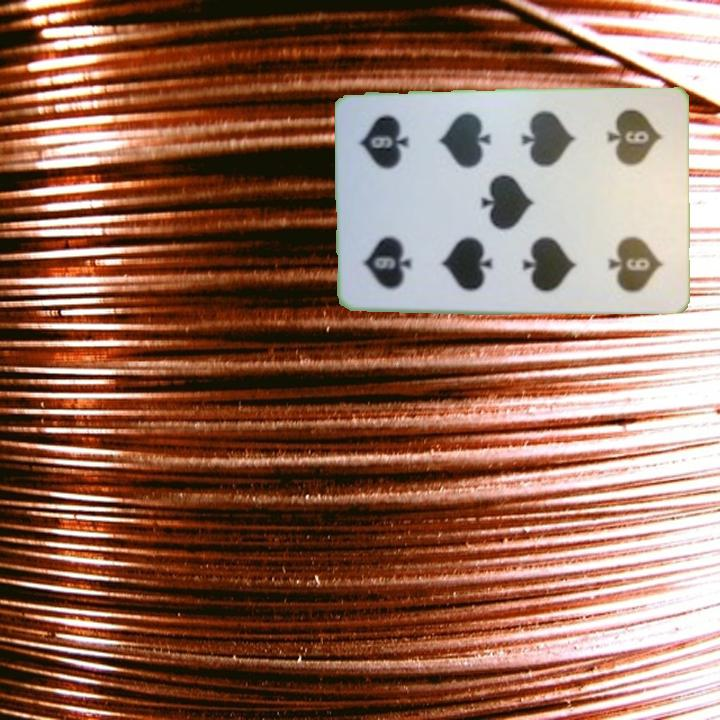s_9.png: (586, 103, 673, 203), (351, 198, 437, 299)
